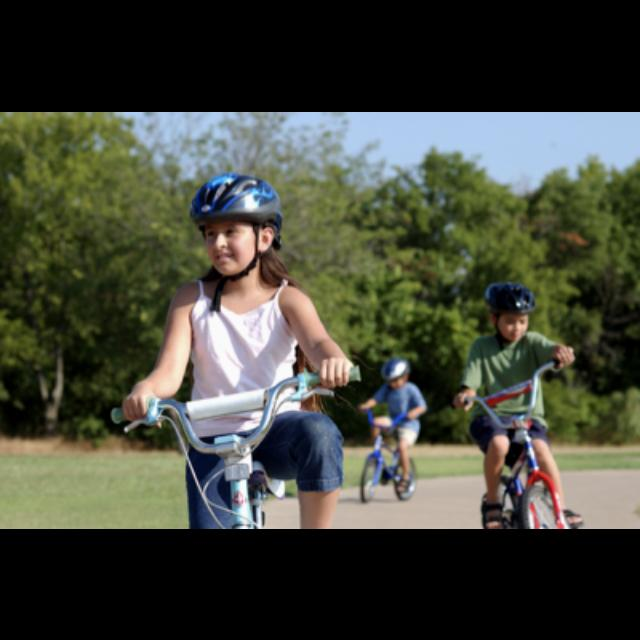With Helmet: (181, 164, 293, 282), (480, 279, 540, 343), (372, 349, 414, 391)
